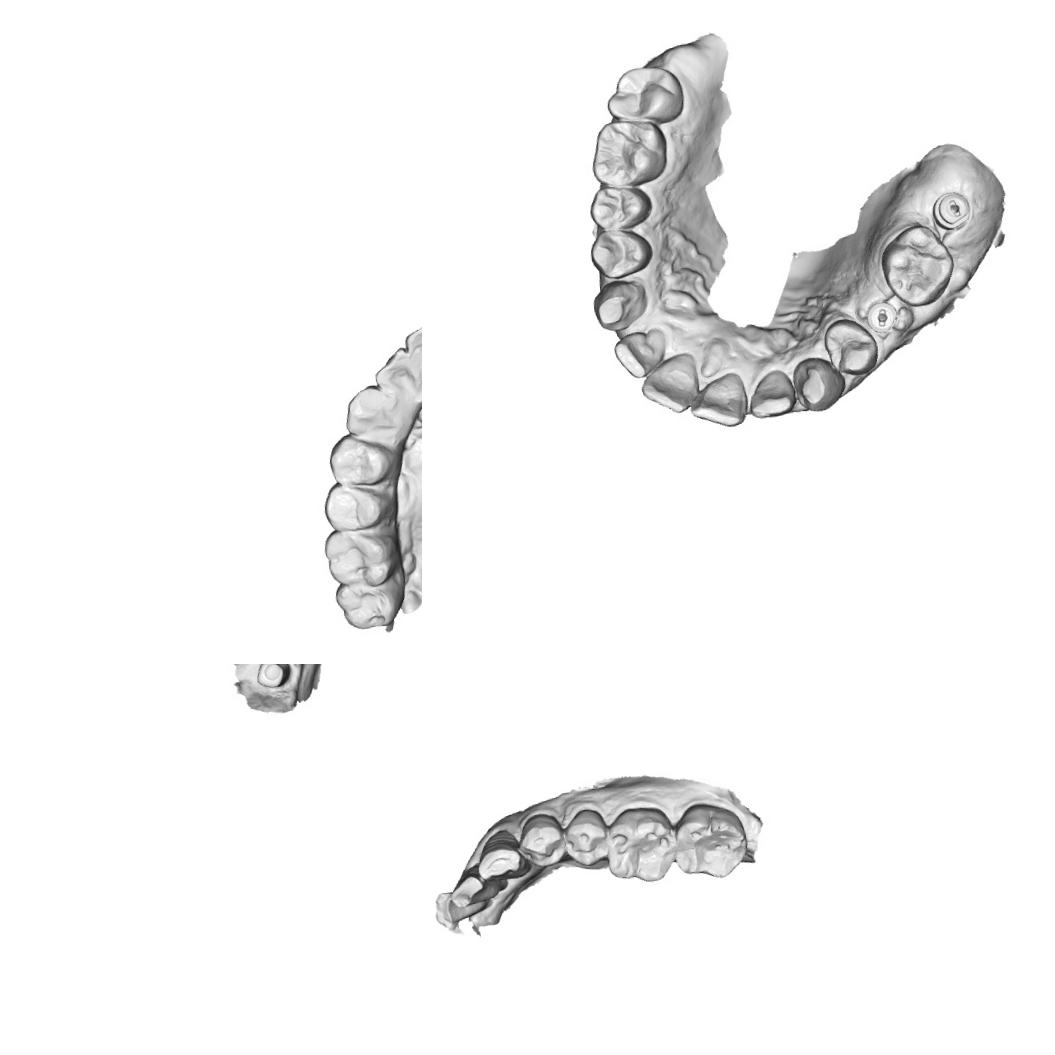abutment: (250, 664, 292, 694)
canine: (337, 380, 404, 446), (589, 275, 652, 336), (788, 352, 847, 415), (473, 826, 533, 882)
implant_minus: (928, 187, 977, 235), (861, 296, 903, 339)
incisor: (636, 350, 706, 418), (684, 368, 752, 432), (366, 342, 422, 411), (610, 327, 672, 382), (744, 367, 799, 422), (448, 870, 510, 909), (400, 314, 422, 391), (433, 888, 471, 926)
molar: (875, 218, 960, 312), (316, 520, 412, 596), (669, 798, 751, 883), (585, 115, 673, 192), (601, 802, 679, 888), (600, 60, 688, 130), (331, 576, 414, 634)
premolar: (324, 428, 400, 492), (819, 312, 882, 384), (586, 224, 658, 284), (320, 477, 394, 535), (584, 177, 656, 235), (514, 810, 568, 870), (561, 807, 611, 868)
